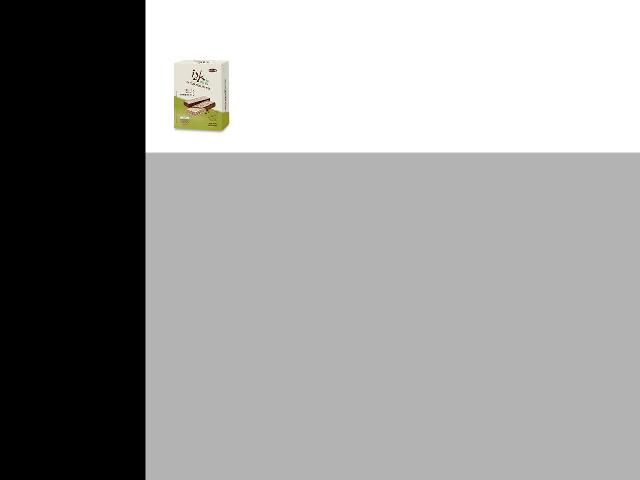chocolate: (172, 59, 233, 133)
